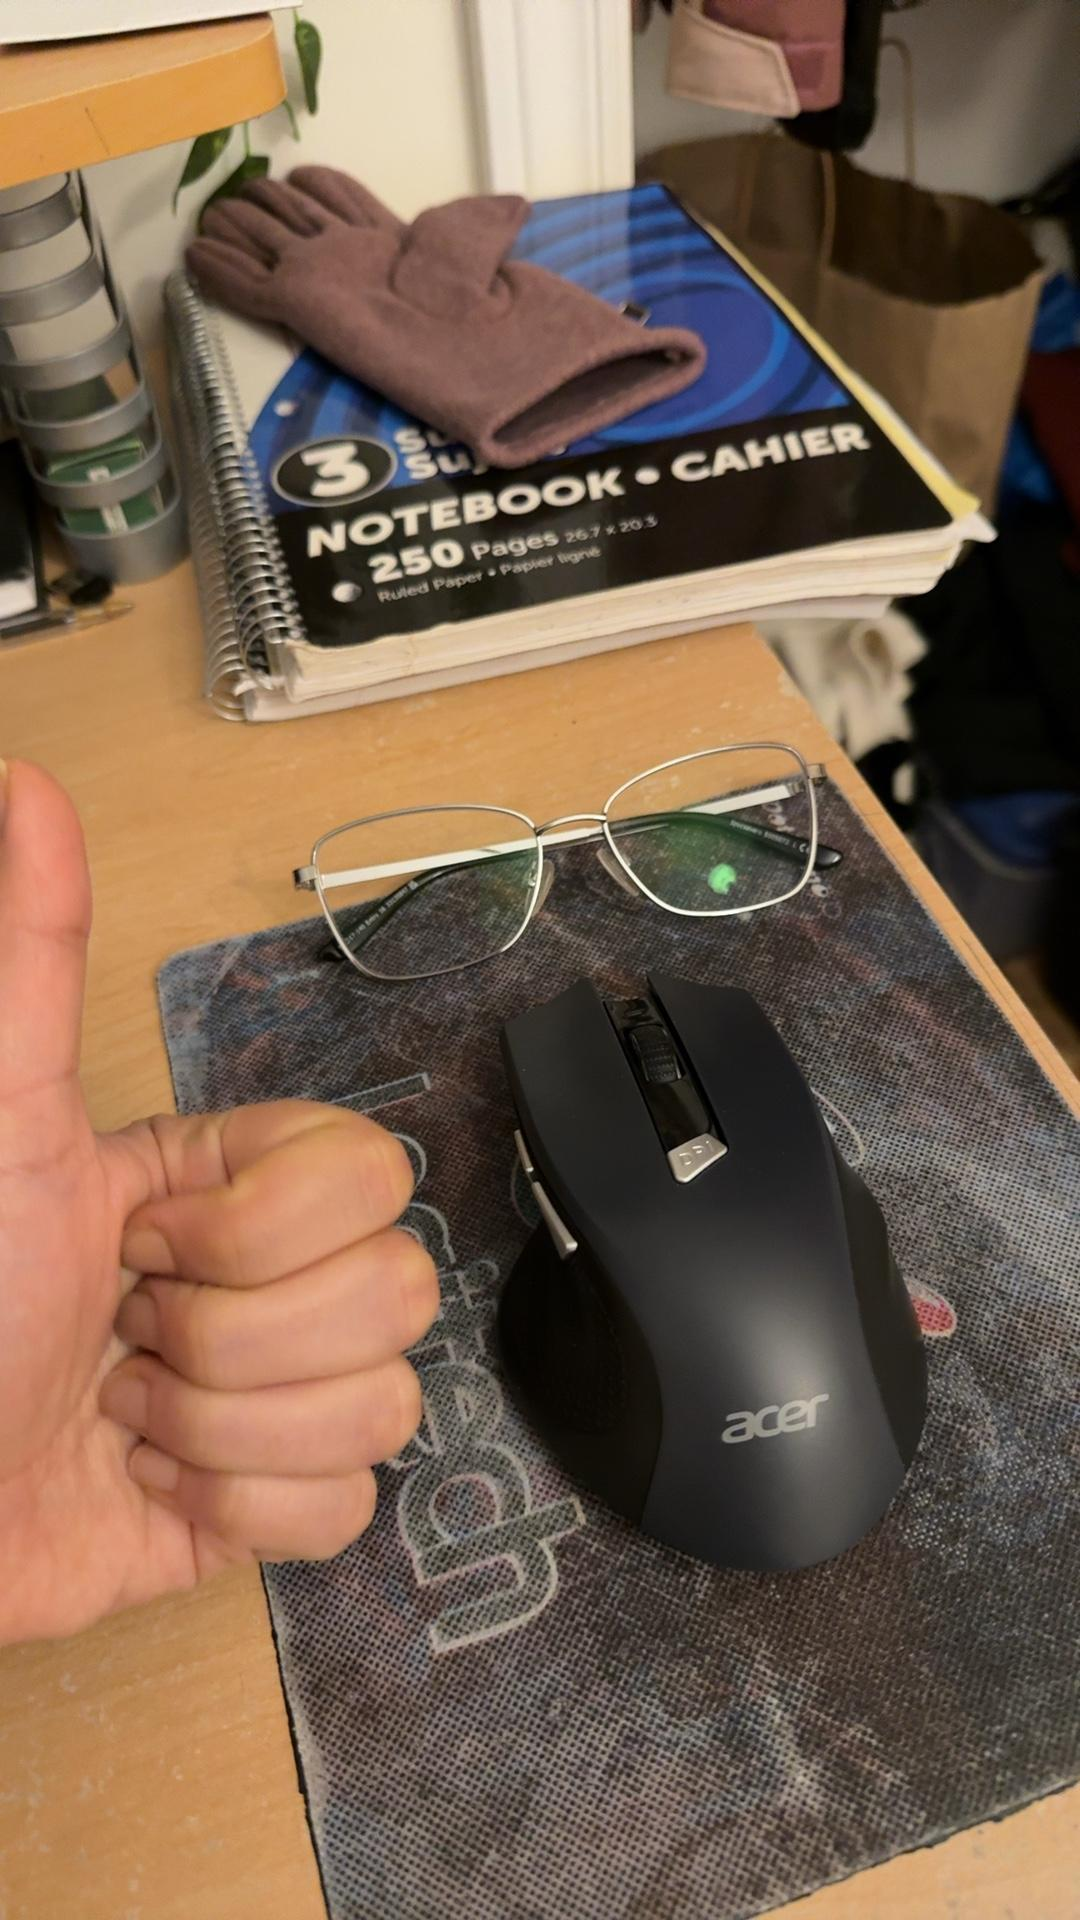Mouse: (488, 990, 973, 1570)
